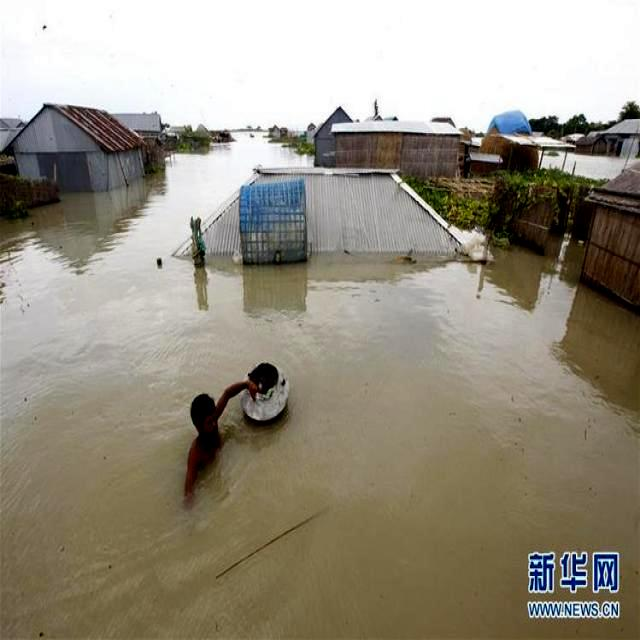civilian: (172, 374, 250, 504)
